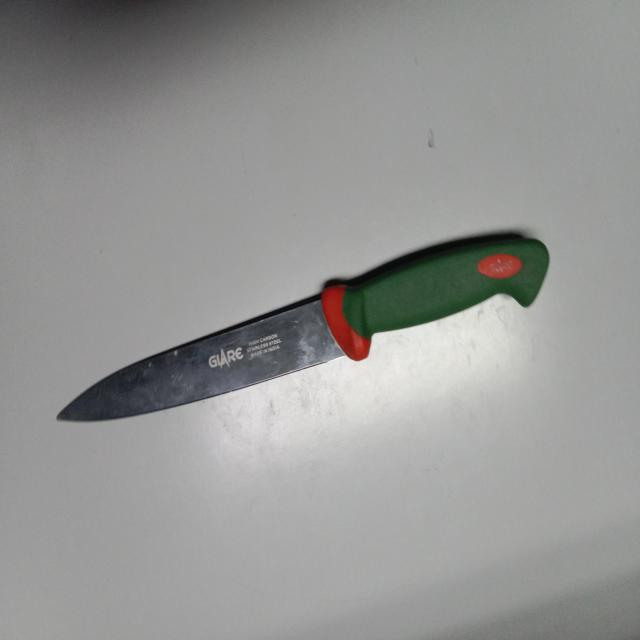Knife: (58, 232, 549, 421)
